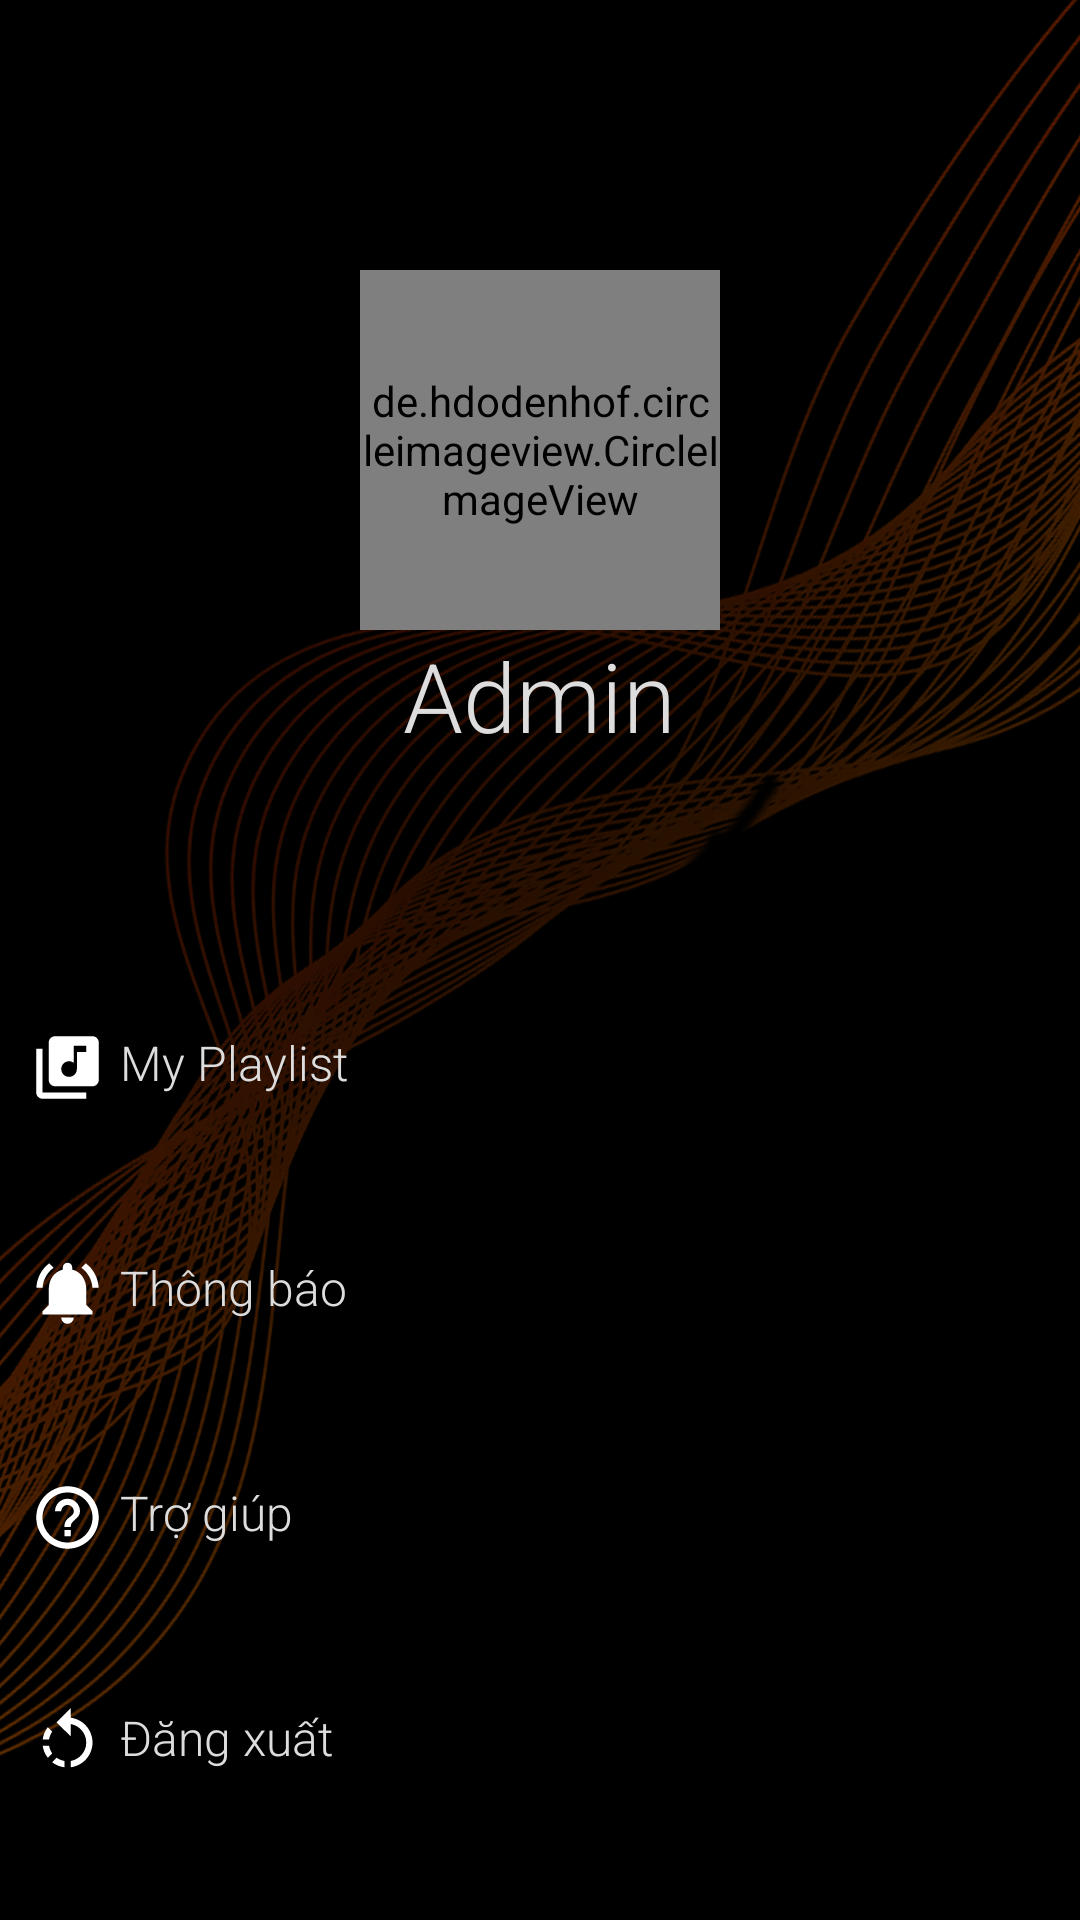

Screen size 1080px×1920px. Icon name, then its center in pixels as (x=x, y=y):
help: (x=67, y=1517)
music: (x=67, y=1067)
notifications: (x=67, y=1292)
